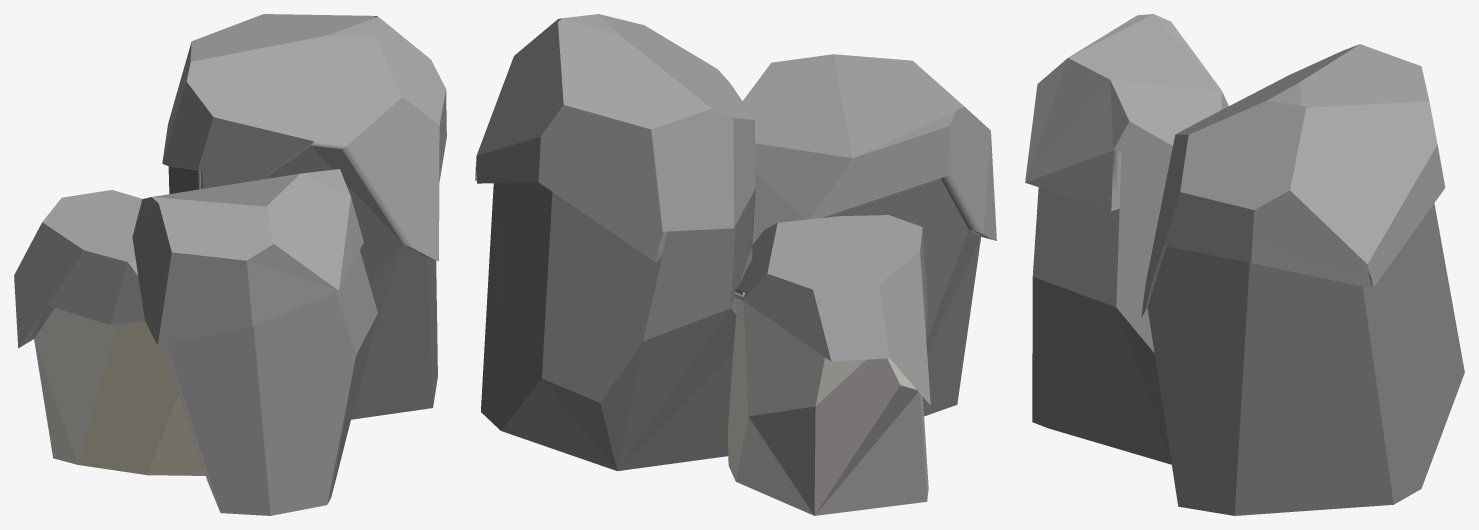
The model's file is Rocks_Round_l_03.fbx.
3 views of the same model, side by side, from view 1: azimuth 30°, elevation 25°; view 2: azimuth 150°, elevation 25°; view 3: azimuth 270°, elevation 25° (orthographic). The views are drawn at different scales.
Visible parts, largest first — view 1: Rocks_Round_l_03; view 2: Rocks_Round_l_03; view 3: Rocks_Round_l_03.
Part boxes in pixels (x1=…): Rocks_Round_l_03: x1=14, y1=14, x2=446, y2=515; Rocks_Round_l_03: x1=475, y1=14, x2=996, y2=515; Rocks_Round_l_03: x1=1025, y1=14, x2=1464, y2=515.
Size of the model in its own units: 293 by 256 by 249.
